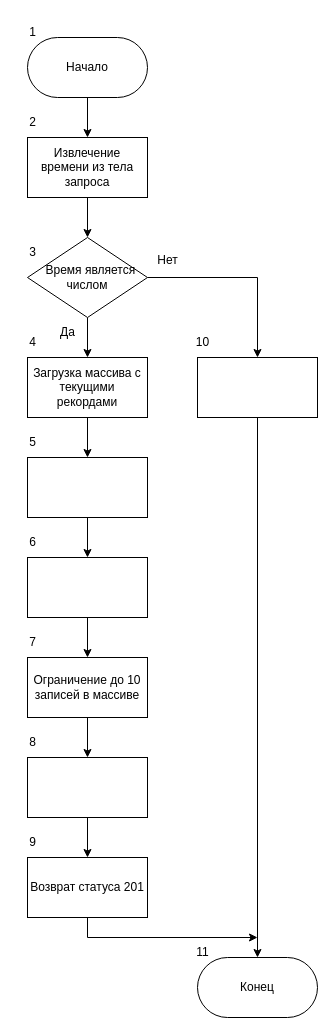
This 335x1035 diagram has some shape labels left out. Each missing label, with the box of its shape:
Возврат статуса 400: (196, 356, 318, 418)
Добавление нового времени в массив: (26, 456, 148, 518)
Сортировка массива в порядке возрастания: (26, 556, 148, 618)
Сохранение массива: (26, 756, 148, 818)
